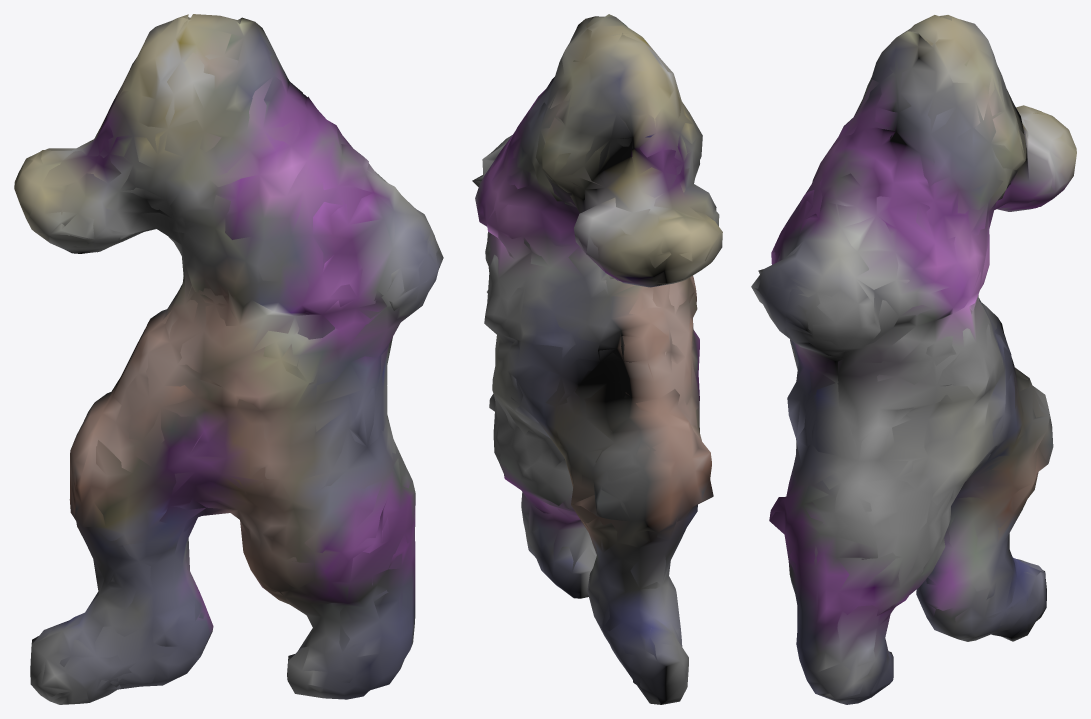
Rendered from psi_commando.glb.
The picture shows the model from 3 angles, left to right: view 1: azimuth 30°, elevation 25°; view 2: azimuth 150°, elevation 25°; view 3: azimuth 270°, elevation 25°; orthographic projection. The views are drawn at different scales.
Visible parts, largest first — view 1: psi_commando; view 2: psi_commando; view 3: psi_commando.
Part boxes in pixels (left/top/right/bottom): psi_commando: left=14, top=14, right=443, bottom=704; psi_commando: left=472, top=14, right=722, bottom=704; psi_commando: left=751, top=15, right=1076, bottom=704.
Size of the model in its own units: 1.11 by 2.22 by 0.9929.
